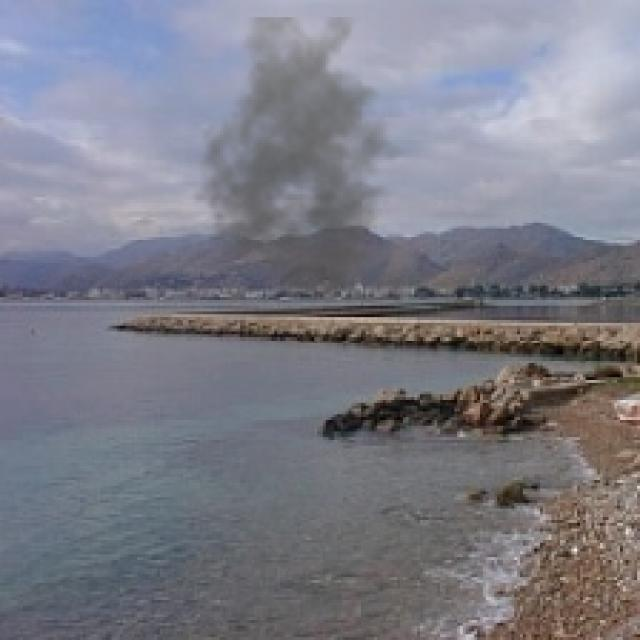Smoke: (192, 17, 414, 300)
